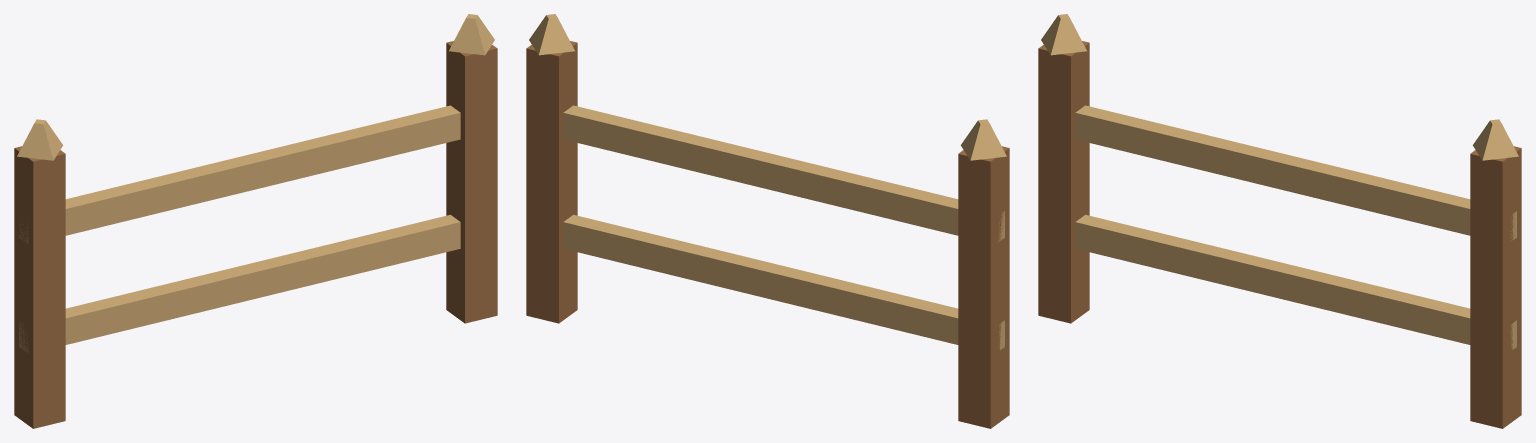
File: TR3_Fence_Wood_2m.glb
3 views of the same model, side by side, from view 1: azimuth 30°, elevation 25°; view 2: azimuth 150°, elevation 25°; view 3: azimuth 330°, elevation 25° (orthographic).
Visible parts, largest first — view 1: TR3_Fence_Wood_2m; view 2: TR3_Fence_Wood_2m; view 3: TR3_Fence_Wood_2m.
Part boxes in pixels (x1,y1,x2,y2): TR3_Fence_Wood_2m: [14, 14, 497, 428]; TR3_Fence_Wood_2m: [526, 14, 1009, 428]; TR3_Fence_Wood_2m: [1038, 14, 1521, 428].
Size of the model in its own units: 2.06 by 1.22 by 0.2.
